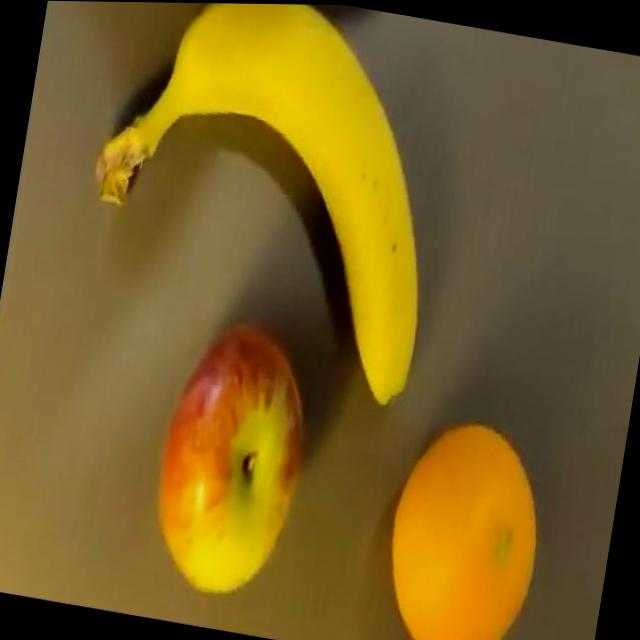Apple: (133, 316, 325, 611)
Banana: (55, 1, 466, 411)
Orange: (368, 401, 563, 640)
